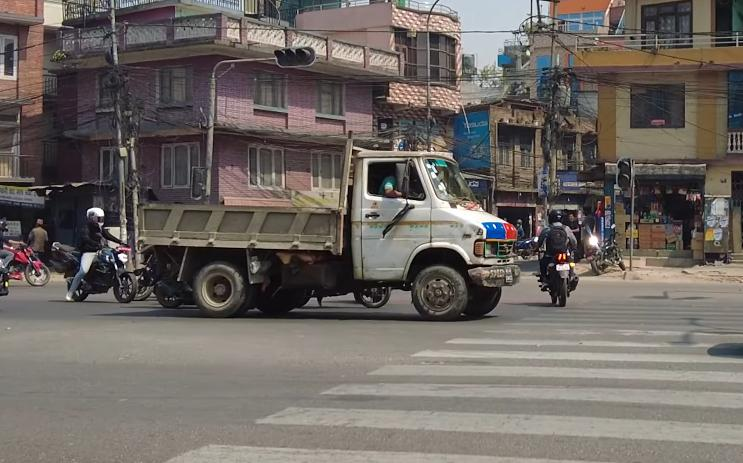bike: (527, 208, 593, 315), (46, 238, 139, 307), (0, 210, 48, 297), (584, 236, 638, 278)
mini_truck: (130, 136, 523, 327)
